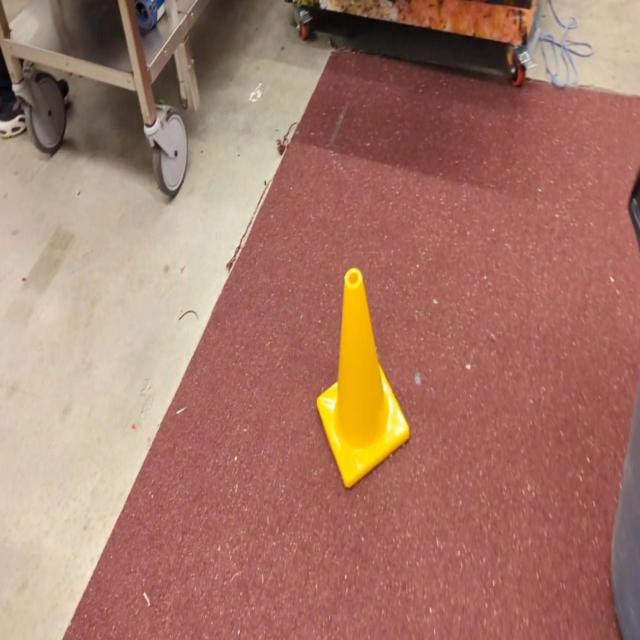frc_cone: (316, 268, 411, 492)
